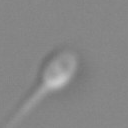normal: (2, 83, 47, 127)
